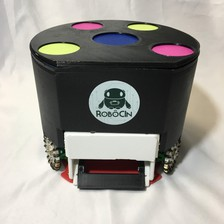robot: (23, 10, 202, 195)
